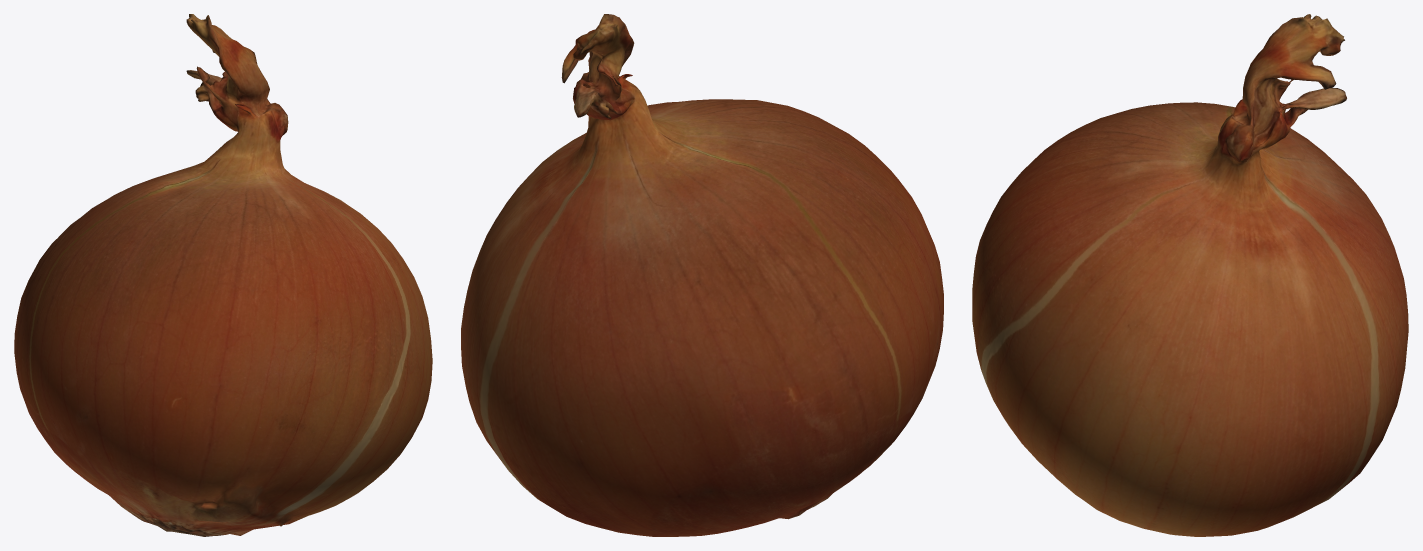
Rendered from yellow_onion_1k.gltf.
The picture shows the model from 3 angles, left to right: view 1: azimuth 30°, elevation 25°; view 2: azimuth 150°, elevation 25°; view 3: azimuth 270°, elevation 25°; orthographic projection. The views are drawn at different scales.
Visible parts, largest first — view 1: yellow_onion; view 2: yellow_onion; view 3: yellow_onion.
Part boxes in pixels (<box>): yellow_onion: <box>14,14,432,536</box>; yellow_onion: <box>461,14,943,536</box>; yellow_onion: <box>972,14,1408,536</box>.
Bounding box in the file's own units: 0.0725 × 0.0864 × 0.0686.
Materials: 1 (1 with a texture image).
